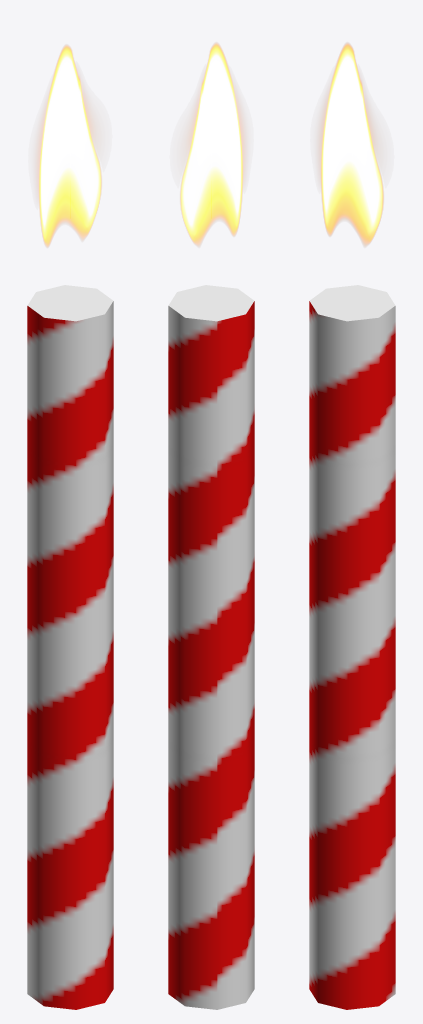
File: candle.glb
3 renders of one model, left to right at view 1: azimuth 30°, elevation 25°; view 2: azimuth 210°, elevation 25°; view 3: azimuth 330°, elevation 25°, orthographic.
Parts seen in each view (by area): view 1: candle, flame; view 2: candle, flame; view 3: candle, flame.
Part boxes in pixels (x1,y1,x2,y2): candle: [27, 285, 113, 1009]; flame: [37, 45, 101, 246]; candle: [168, 285, 254, 1009]; flame: [180, 43, 244, 245]; candle: [309, 285, 395, 1009]; flame: [319, 43, 383, 245].
Size of the model in its own units: 0.12 by 0.98 by 0.0739.
Materials: 2 (2 with a texture image).
